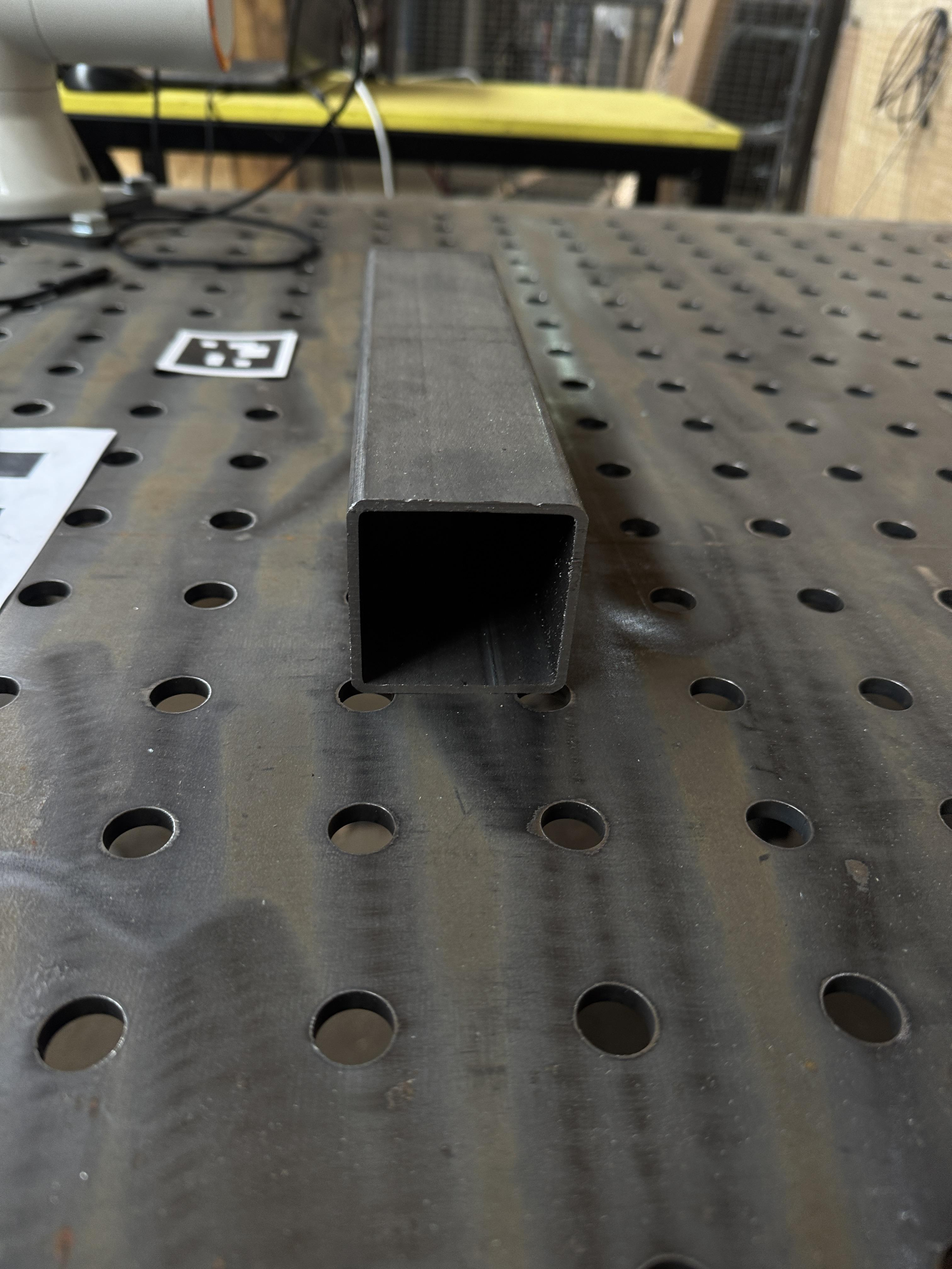detail: (345, 245, 587, 694)
